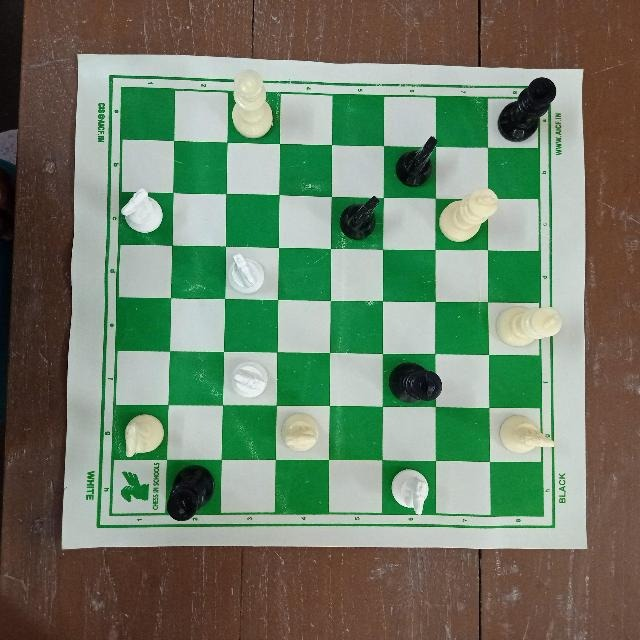black-king: (495, 72, 564, 142), (163, 464, 221, 528), (388, 359, 454, 409)
black-knight: (396, 135, 444, 189), (335, 193, 384, 245)
white-king: (493, 301, 570, 350), (438, 184, 502, 240)
white-knight: (493, 413, 562, 457), (226, 354, 274, 408), (116, 187, 168, 235), (383, 469, 431, 519), (120, 413, 168, 461), (276, 408, 323, 454), (223, 249, 266, 299)
white-queen: (227, 65, 279, 143)
